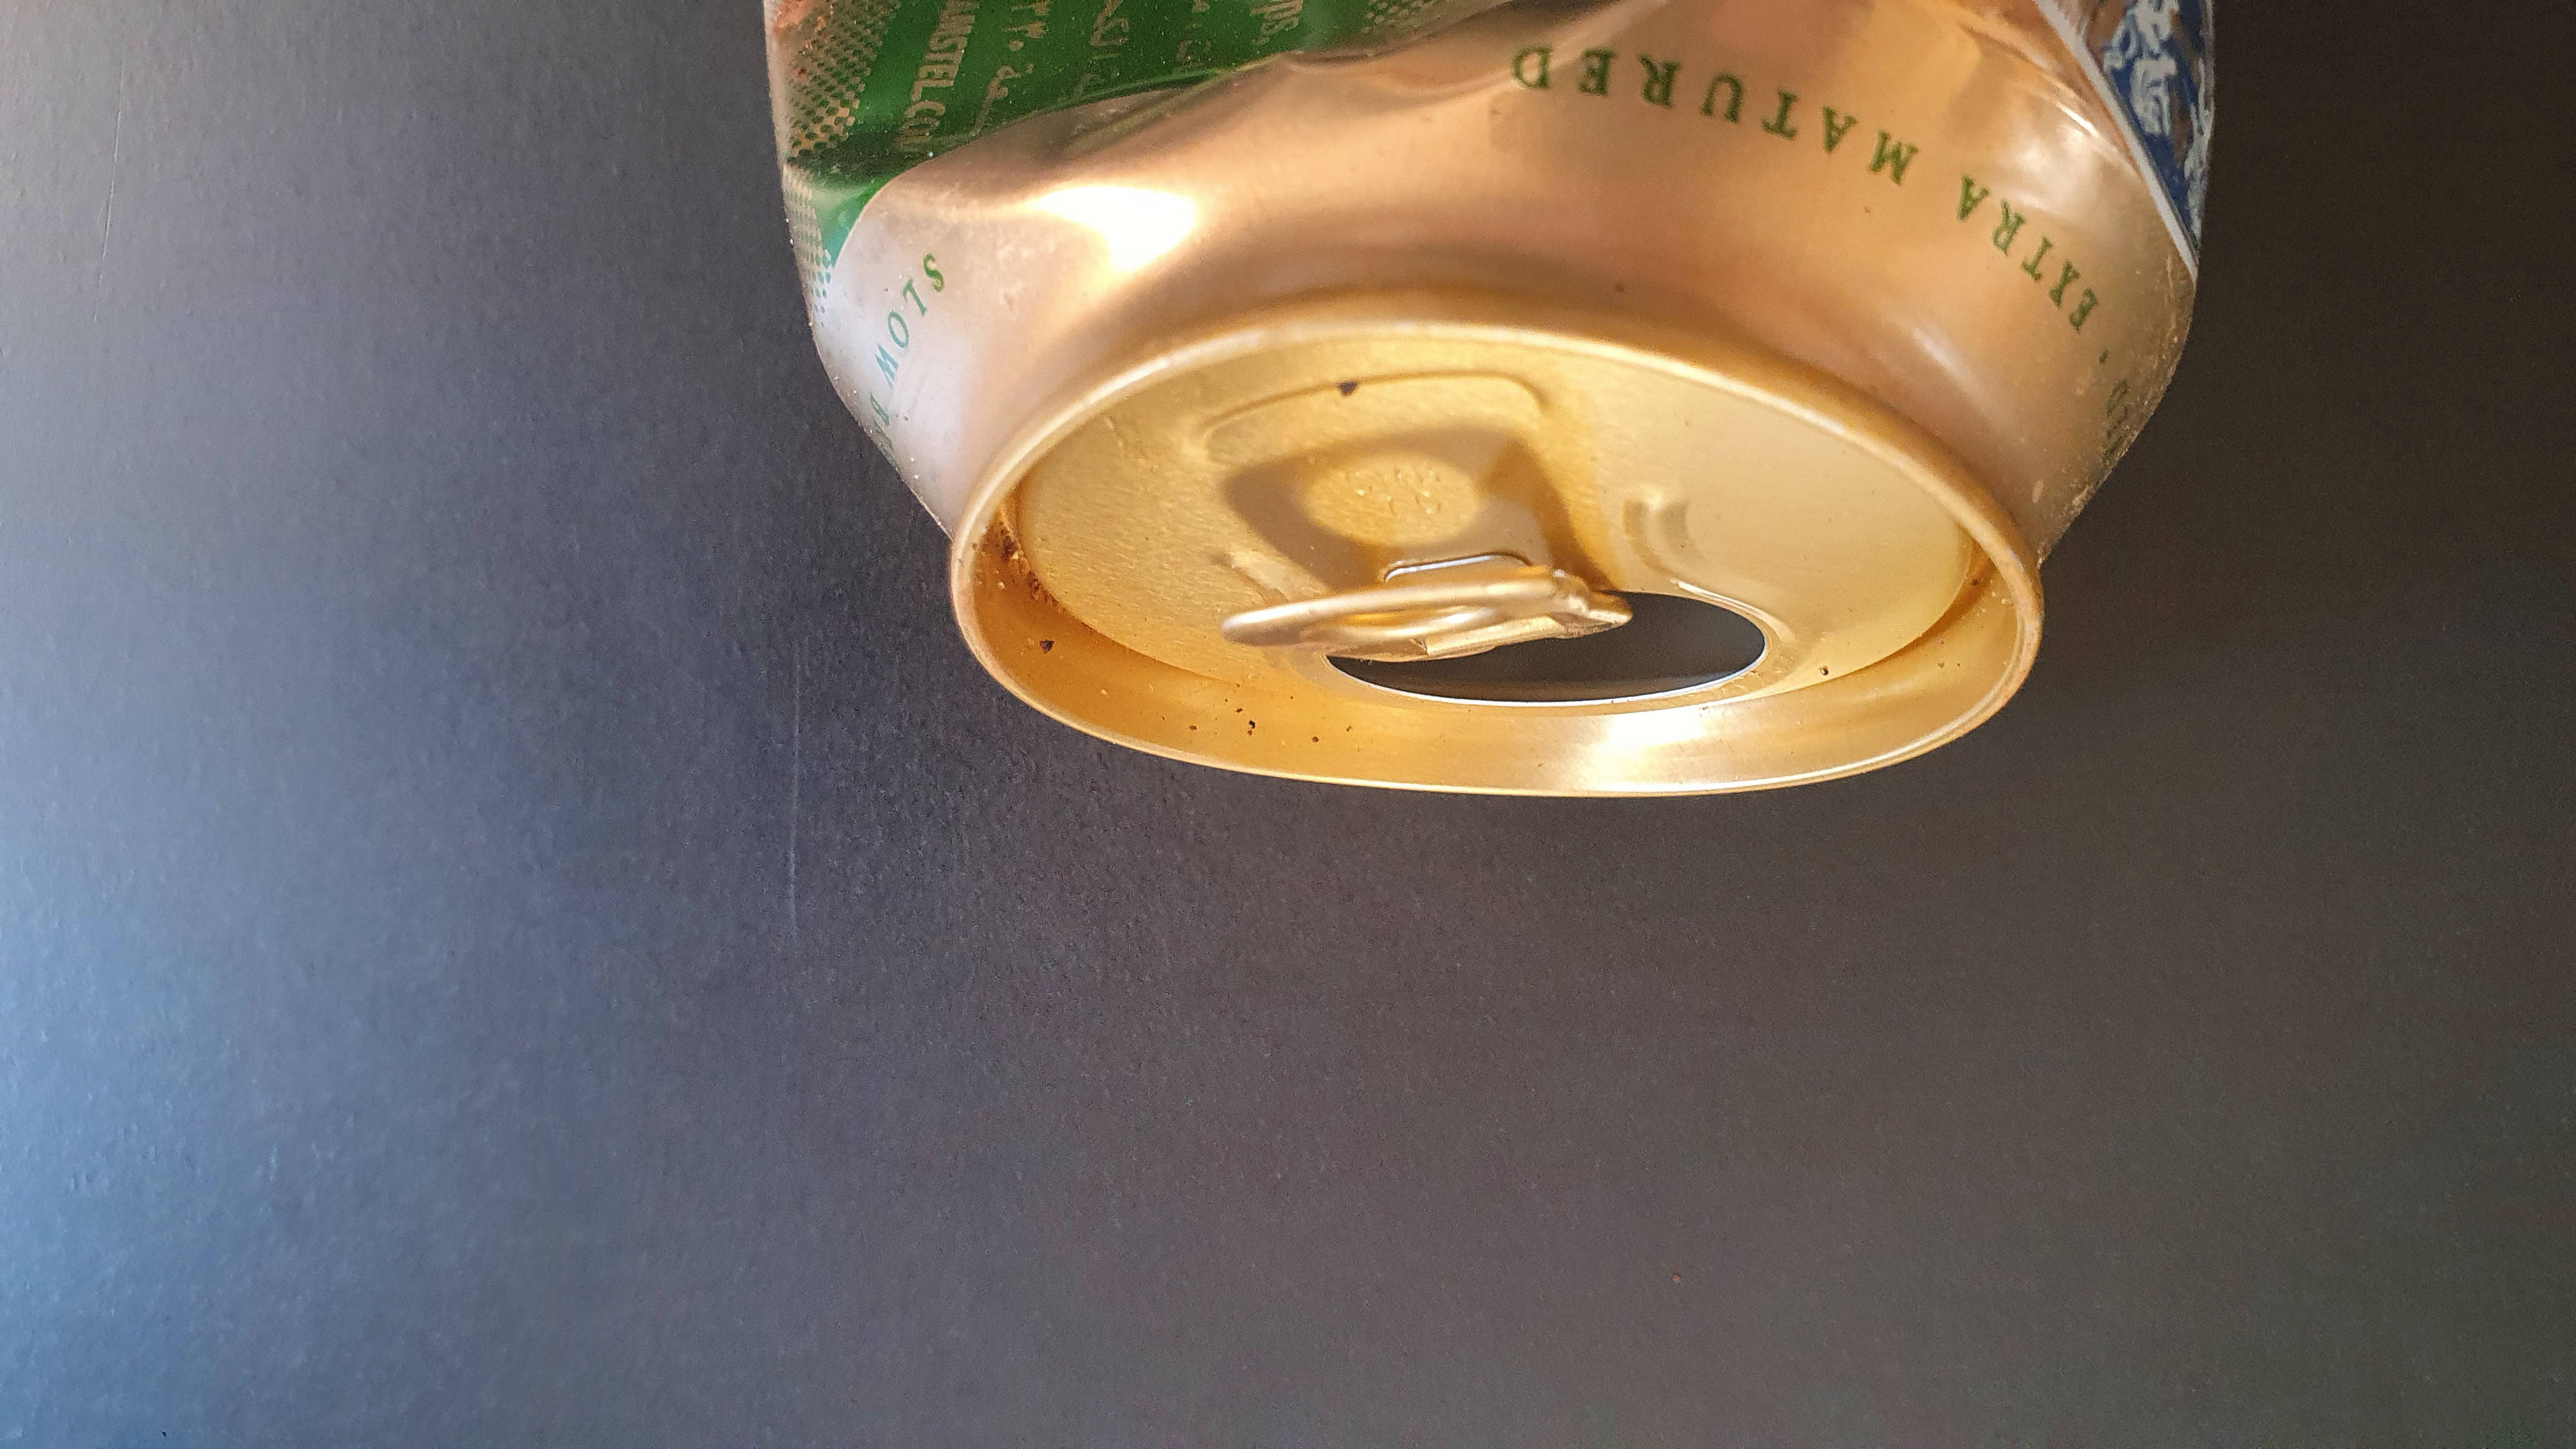metal: (702, 0, 2293, 869)
